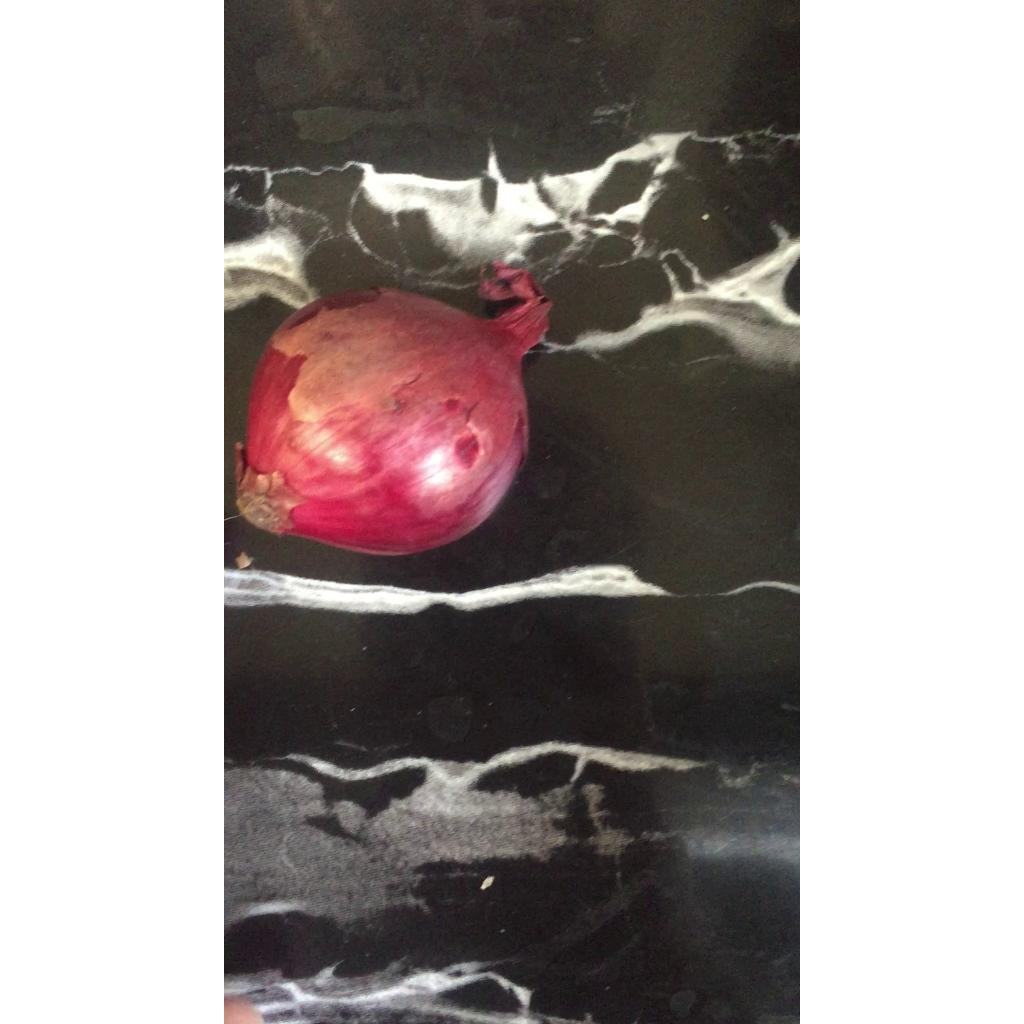Onion: (235, 261, 550, 554)
